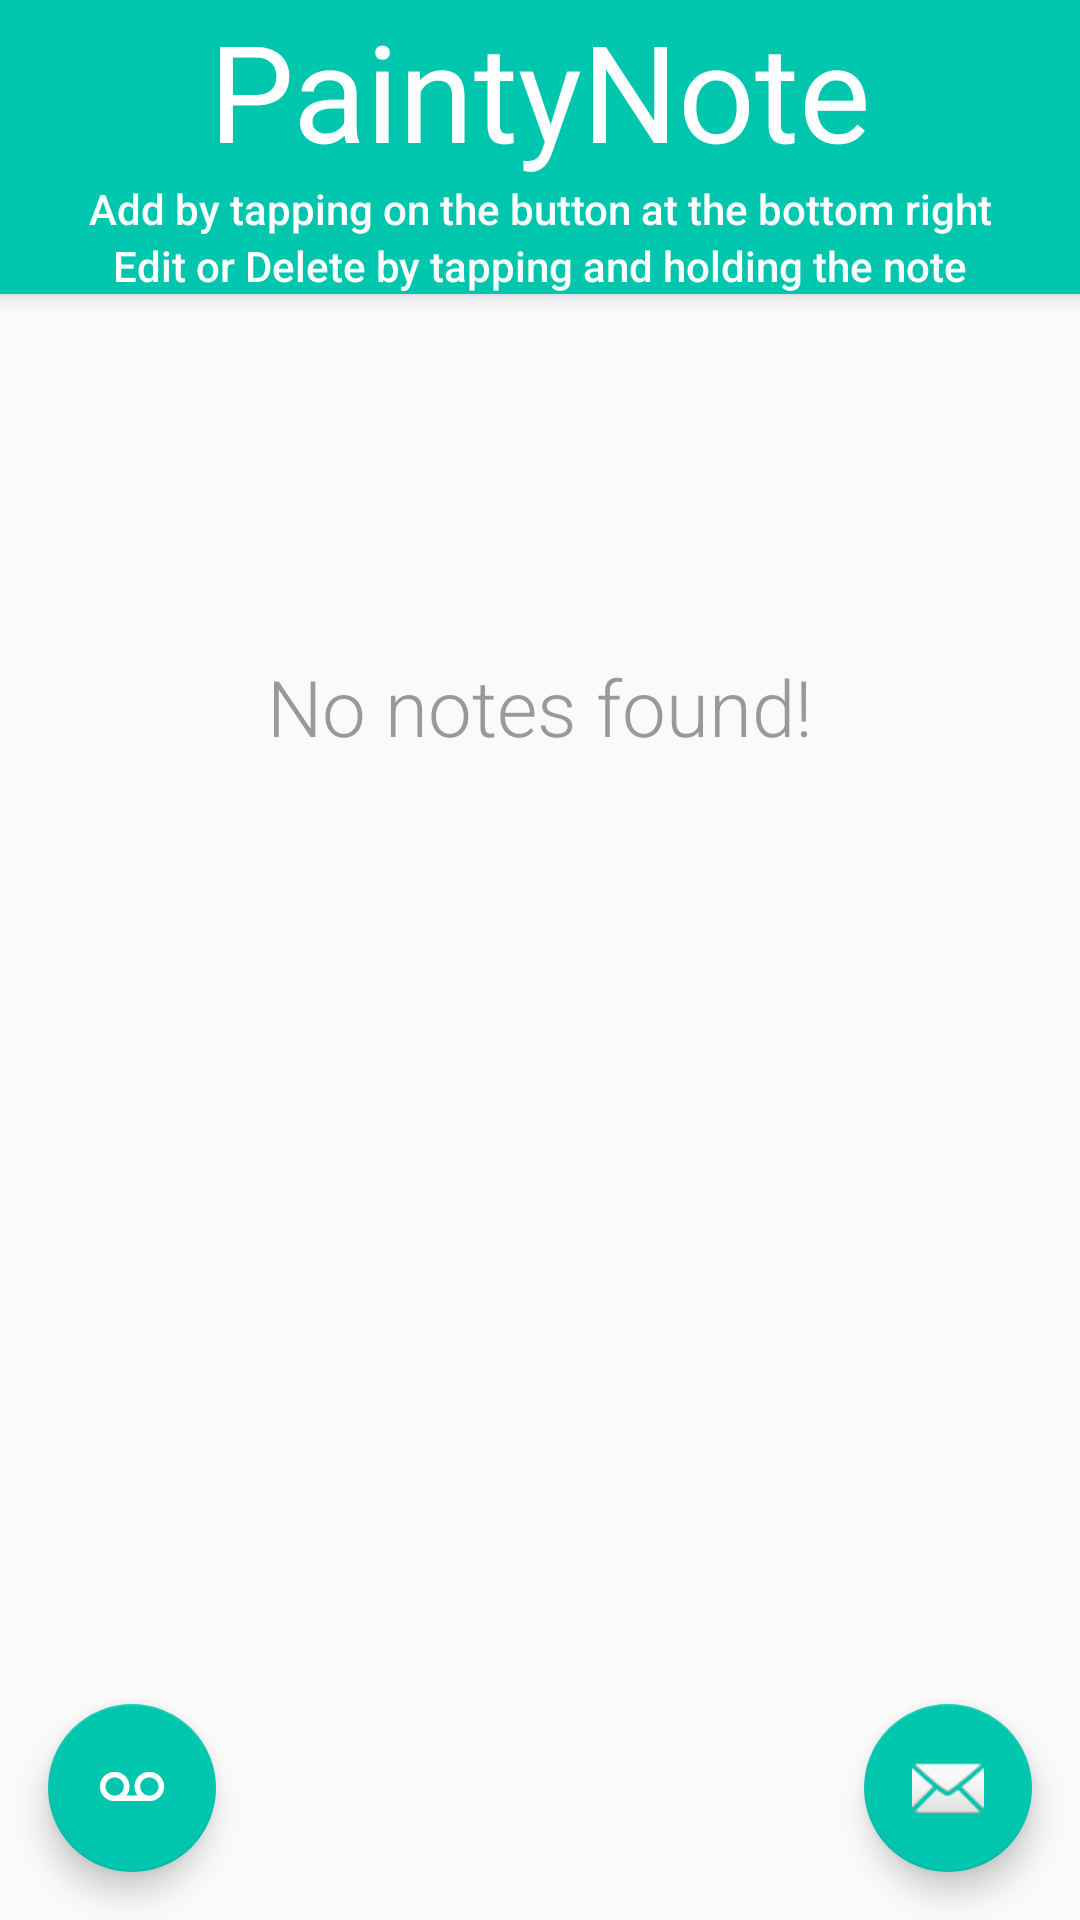

Where to tap for icons on this 1080 x 1920 app screen, as point (x, y):
email: point (948, 1788)
voicemail: point (132, 1788)
